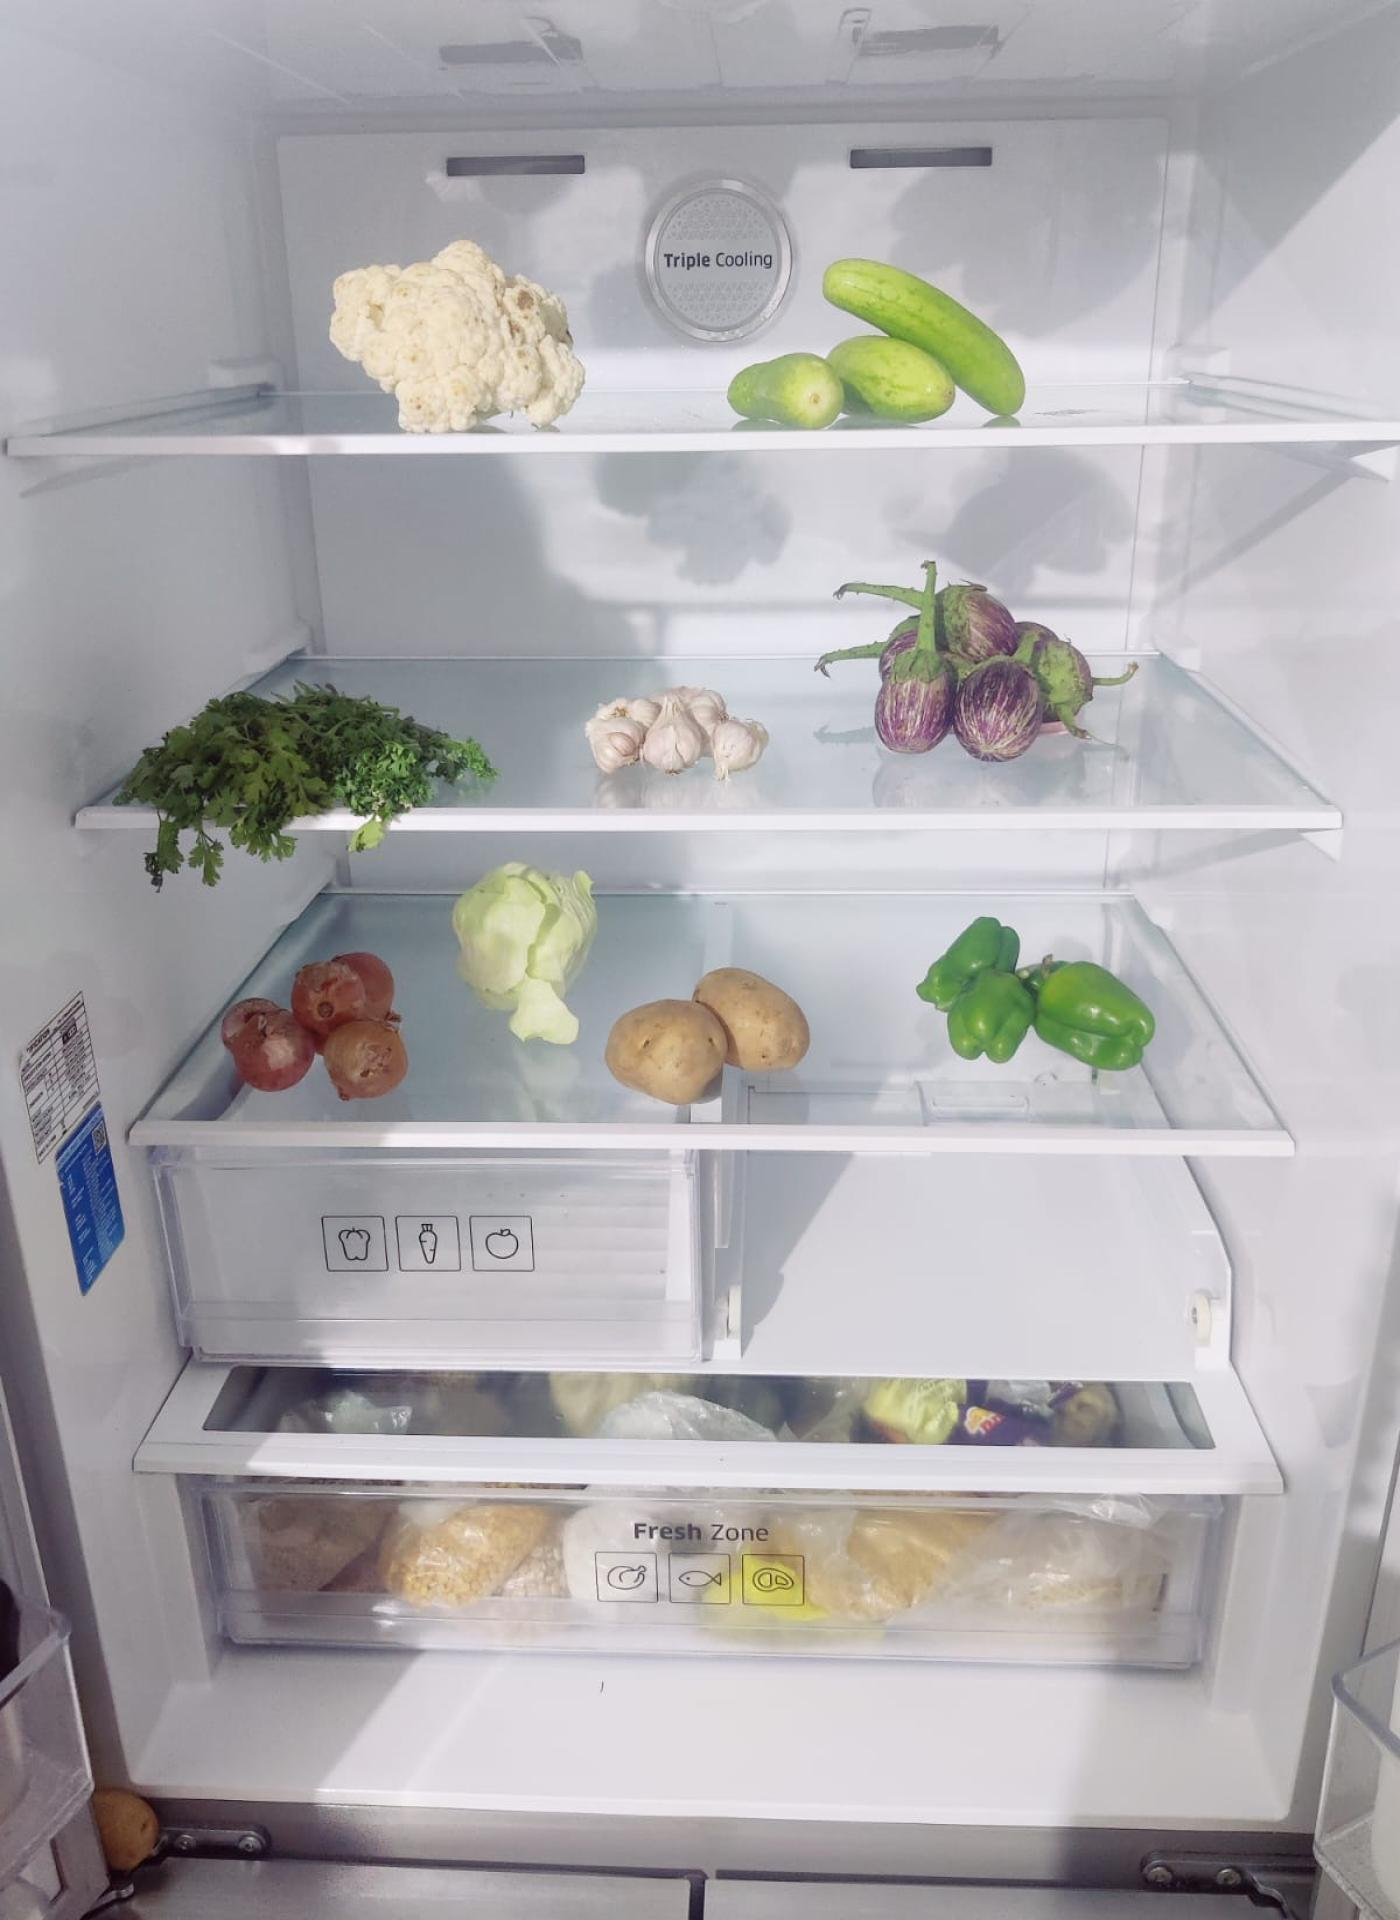brinjal: (826, 553, 1081, 763)
cabbage: (450, 862, 598, 1005)
capsicum: (926, 918, 1164, 1075)
cauliflower: (332, 233, 589, 425)
coriander: (127, 680, 492, 829)
cucumber: (720, 249, 1024, 417)
garlic: (587, 675, 769, 769)
onion: (227, 953, 412, 1096)
potato: (611, 970, 819, 1109)
